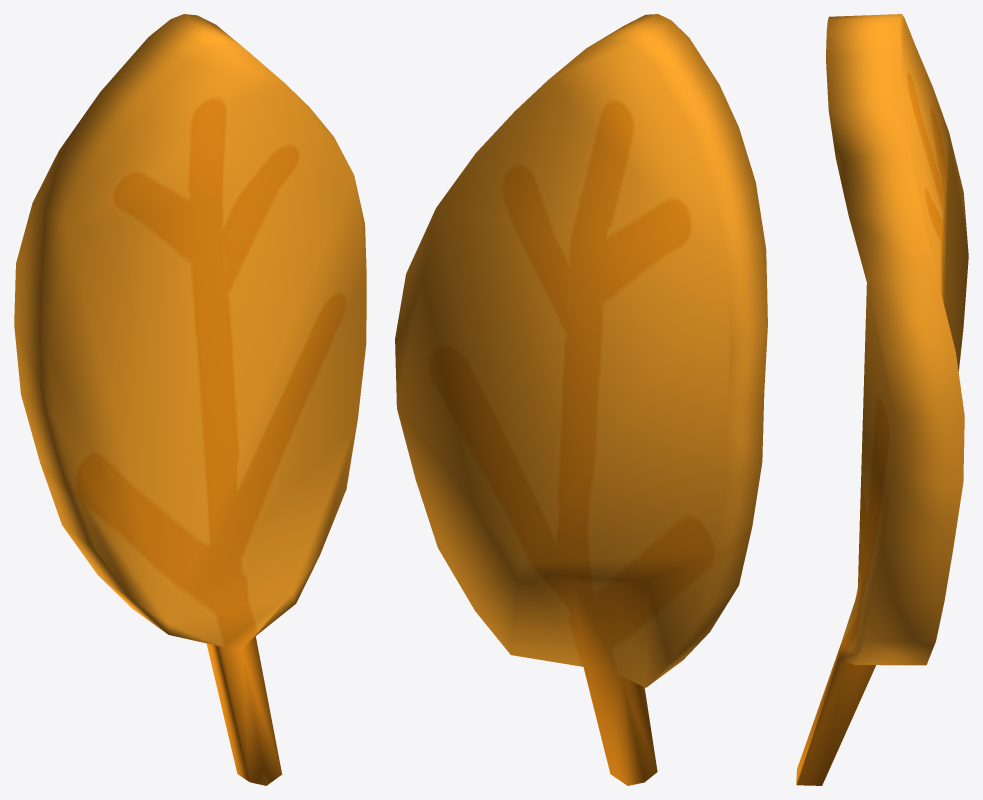
The model's file is yellow_leaf.glb.
The picture shows the model from 3 angles, left to right: view 1: azimuth 30°, elevation 25°; view 2: azimuth 150°, elevation 25°; view 3: azimuth 270°, elevation 25°; orthographic projection. The views are drawn at different scales.
Parts seen in each view (by area): view 1: Yellow_Leaf; view 2: Yellow_Leaf; view 3: Yellow_Leaf.
Boxes of the visible parts, x1=… form: Yellow_Leaf: x1=14, y1=14, x2=366, y2=785; Yellow_Leaf: x1=395, y1=14, x2=767, y2=785; Yellow_Leaf: x1=796, y1=14, x2=968, y2=785.
Size of the model in its own units: 0.2887 by 0.6458 by 0.1342.
Materials: 1 (1 with a texture image).
